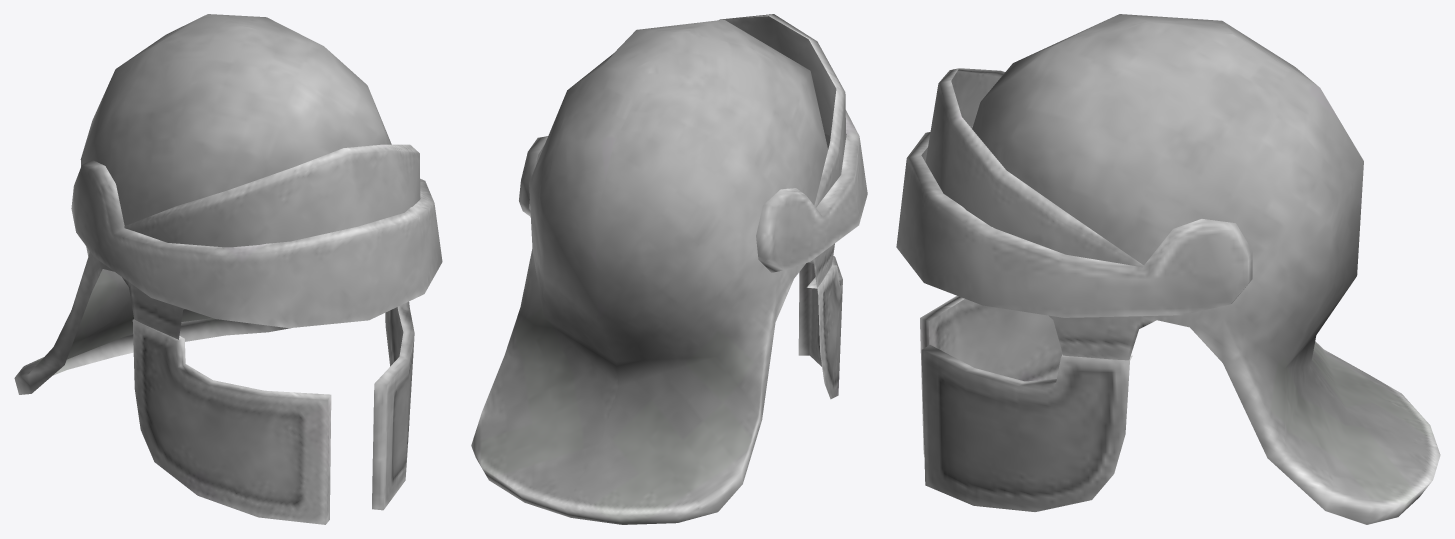
The model's file is helm-heavyarchers.glb.
3 renders of one model, left to right at view 1: azimuth 30°, elevation 25°; view 2: azimuth 150°, elevation 25°; view 3: azimuth 270°, elevation 25°, orthographic. The views are drawn at different scales.
Size of the model in its own units: 0.2425 by 0.3403 by 0.371.
1 material, 1 textured.
